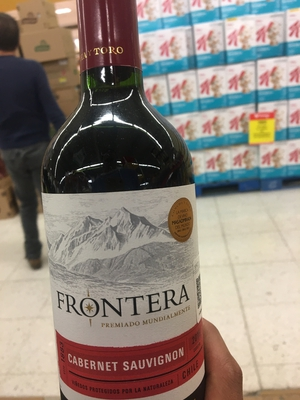frontera cabernet sauvignon: (50, 3, 210, 400)
